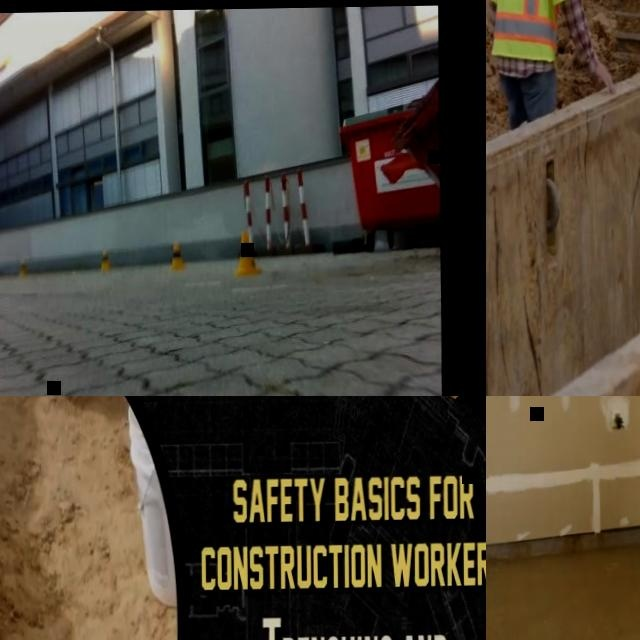Person: (486, 0, 617, 126)
Safety Cone: (233, 231, 262, 274), (169, 243, 185, 268), (99, 249, 110, 271), (19, 260, 27, 276)
Safety Vest: (486, 0, 582, 47)
